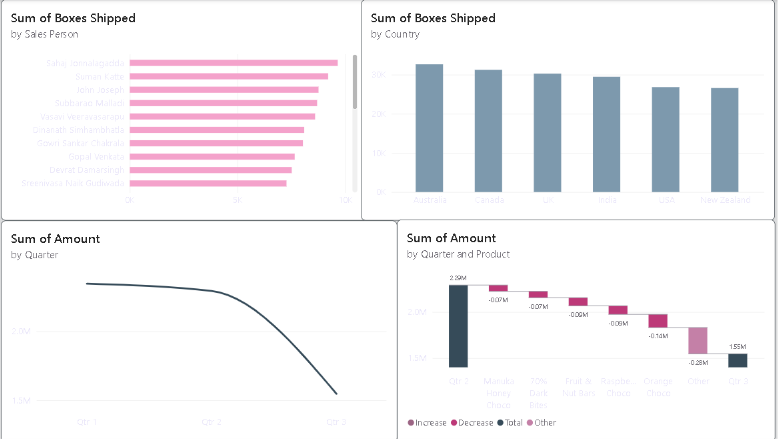

The dashboard page shown, as its layout file describes it:
{"tool":"powerbi","page":{"name":"Page 1","canvas":[1280,720],"ordinal":0},"visuals":[{"type":"barChart","fields":{"Category":["data.Sales Person"],"Y":["Sum(data.Boxes Shipped)"]},"box":[9.4,0,597.2,359.1],"z":0},{"type":"columnChart","fields":{"Category":["data.Country"],"Y":["Sum(data.Boxes Shipped)"]},"box":[595.3,0,673.4,359.5],"z":1000},{"type":"lineChart","fields":{"Category":["data.Date.Variation.Date Hierarchy.Year","data.Date.Variation.Date Hierarchy.Quarter","data.Date.Variation.Date Hierarchy.Month","data.Date.Variation.Date Hierarchy.Day"],"Y":["Sum(data.Amount)"]},"box":[9.4,359.1,644.4,360.9],"z":2000},{"type":"waterfallChart","fields":{"Breakdown":["data.Product"],"Category":["data.Date.Variation.Date Hierarchy.Quarter"],"Y":["Sum(data.Amount)"]},"box":[653.3,358.3,615,361.7],"z":3000}]}

Visuals, with their boxes in screenshot pixels (x1, y1, x2, y2), scaled from the page's 1280x720 canvas onto the 778x439 screenshot:
barChart - data.Sales Person x Sum(data.Boxes Shipped): left=6, top=0, right=369, bottom=219
columnChart - data.Country x Sum(data.Boxes Shipped): left=362, top=0, right=771, bottom=219
lineChart - data.Date.Variation.Date Hierarchy.Year x data.Date.Variation.Date Hierarchy.Quarter: left=6, top=219, right=397, bottom=438
waterfallChart - data.Product x data.Date.Variation.Date Hierarchy.Quarter: left=397, top=218, right=771, bottom=438
